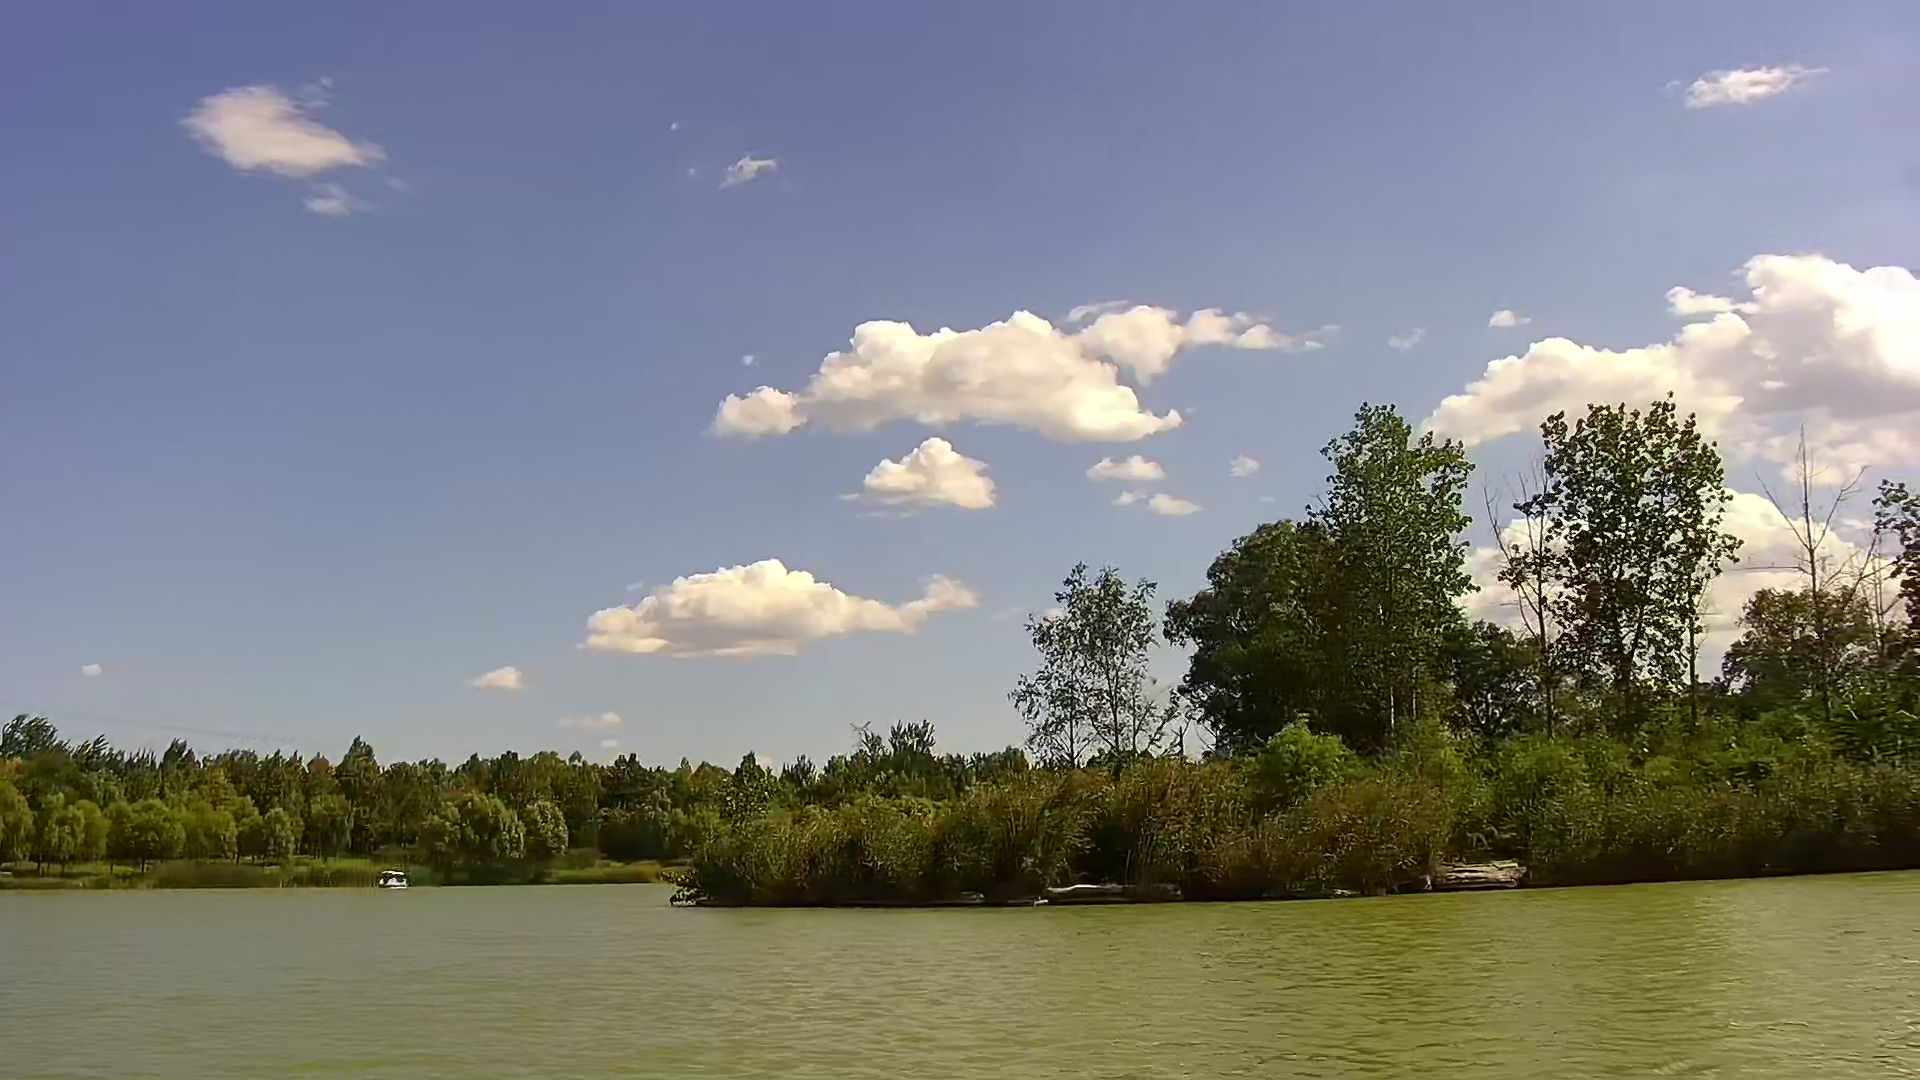boat: (378, 869, 410, 893)
